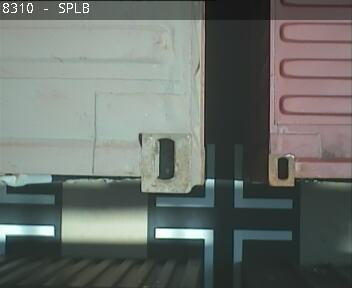groundmarker_1: (154, 146, 293, 208), (155, 227, 292, 288)
